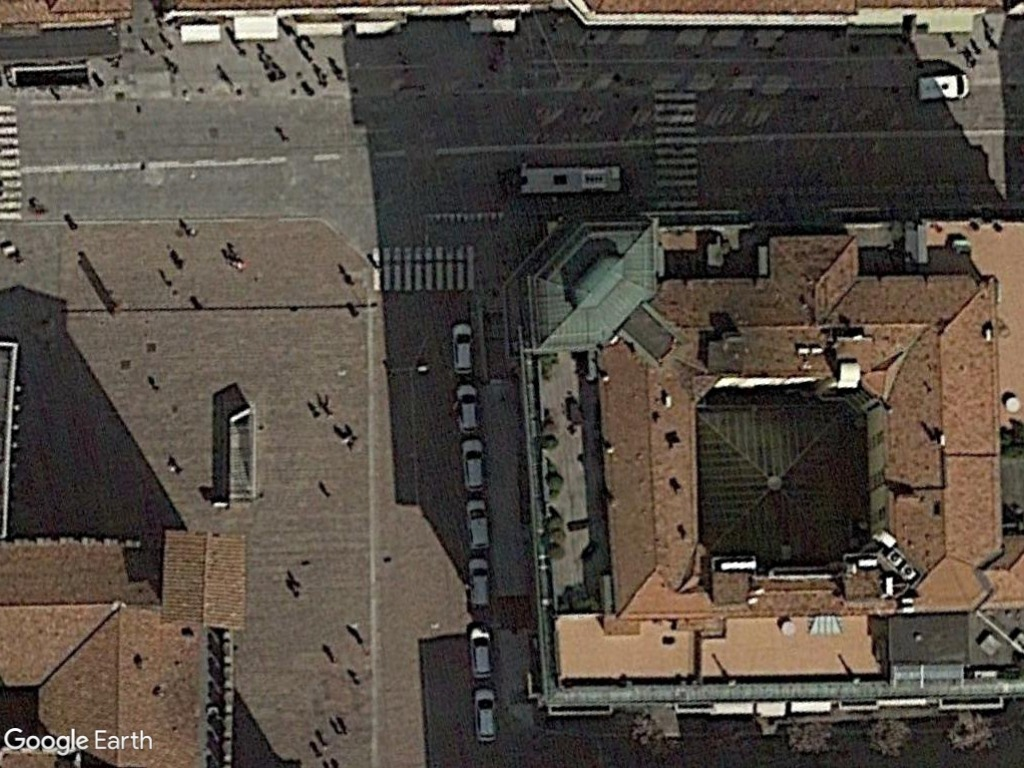bus: (513, 163, 628, 199)
car: (466, 623, 498, 683), (452, 380, 484, 438), (462, 495, 492, 553), (471, 686, 499, 746), (448, 320, 477, 377), (464, 557, 492, 612), (460, 434, 486, 491)
van: (914, 71, 969, 104)
